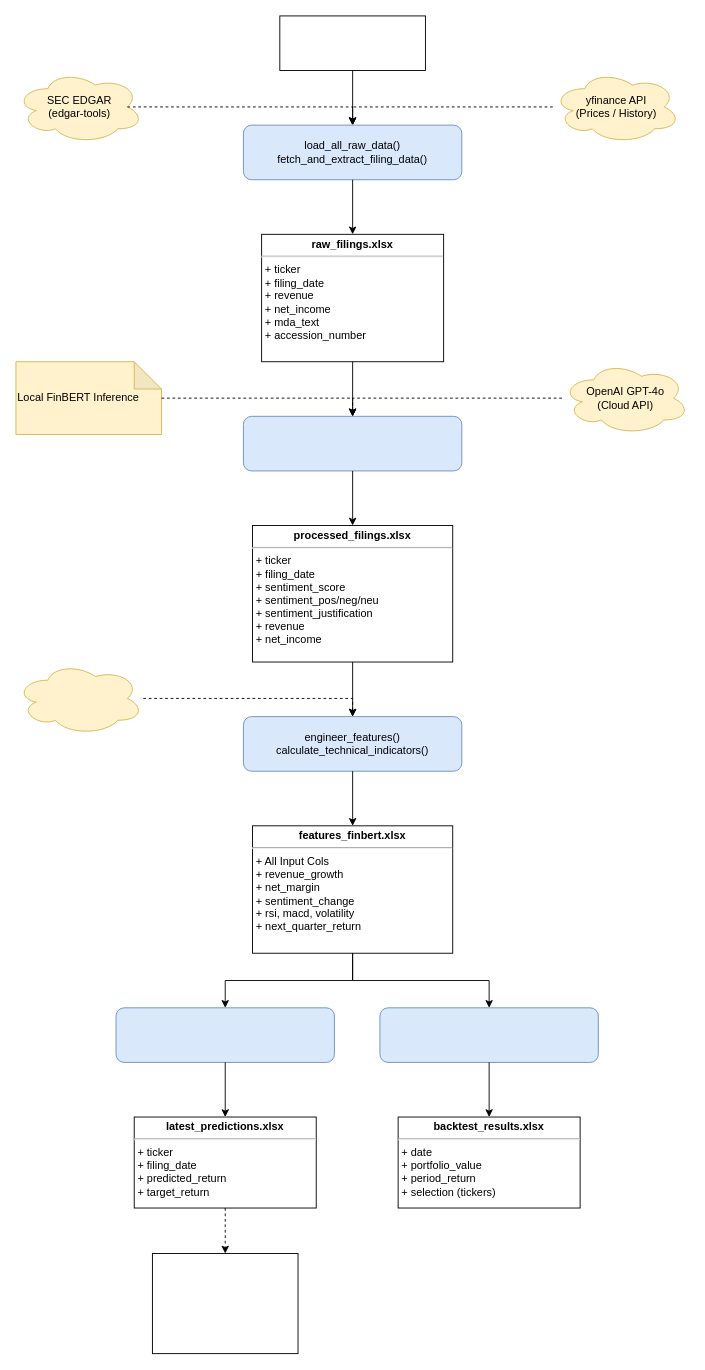
Image size: 705x1370. Some labels were removed from this diagram. Each missing label, with the centre of its shape:
blacklist.txt + ticker_list: point 352,43
generate_next_quarter_prediction() (XGBoost.predict): point 224,1034
process_filings_for_sentiment() (FinBERT / OpenAI API): point 352,443
simulate_portfolio() (Frequency Rebalance & Weighting): point 488,1034
Virtual Portfolio + Cash + Holdings + Total Value + Rebalanced: point 225,1303
yfinance API (Market Data): point 79,698
